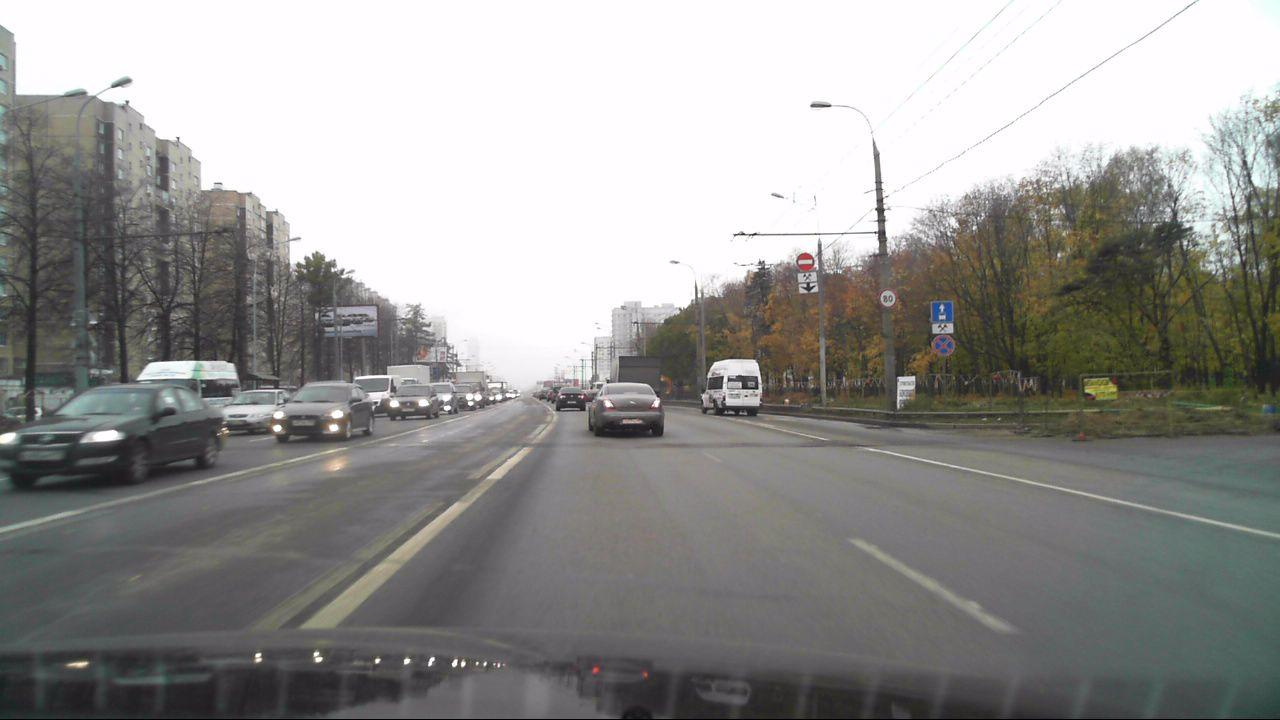3_1: (794, 251, 815, 271)
3_24: (878, 288, 897, 308)
3_27: (931, 334, 954, 356)
5_14_1: (931, 300, 953, 322)
8_14: (798, 283, 819, 295)
8_5_2: (931, 323, 954, 334), (798, 273, 817, 282)
